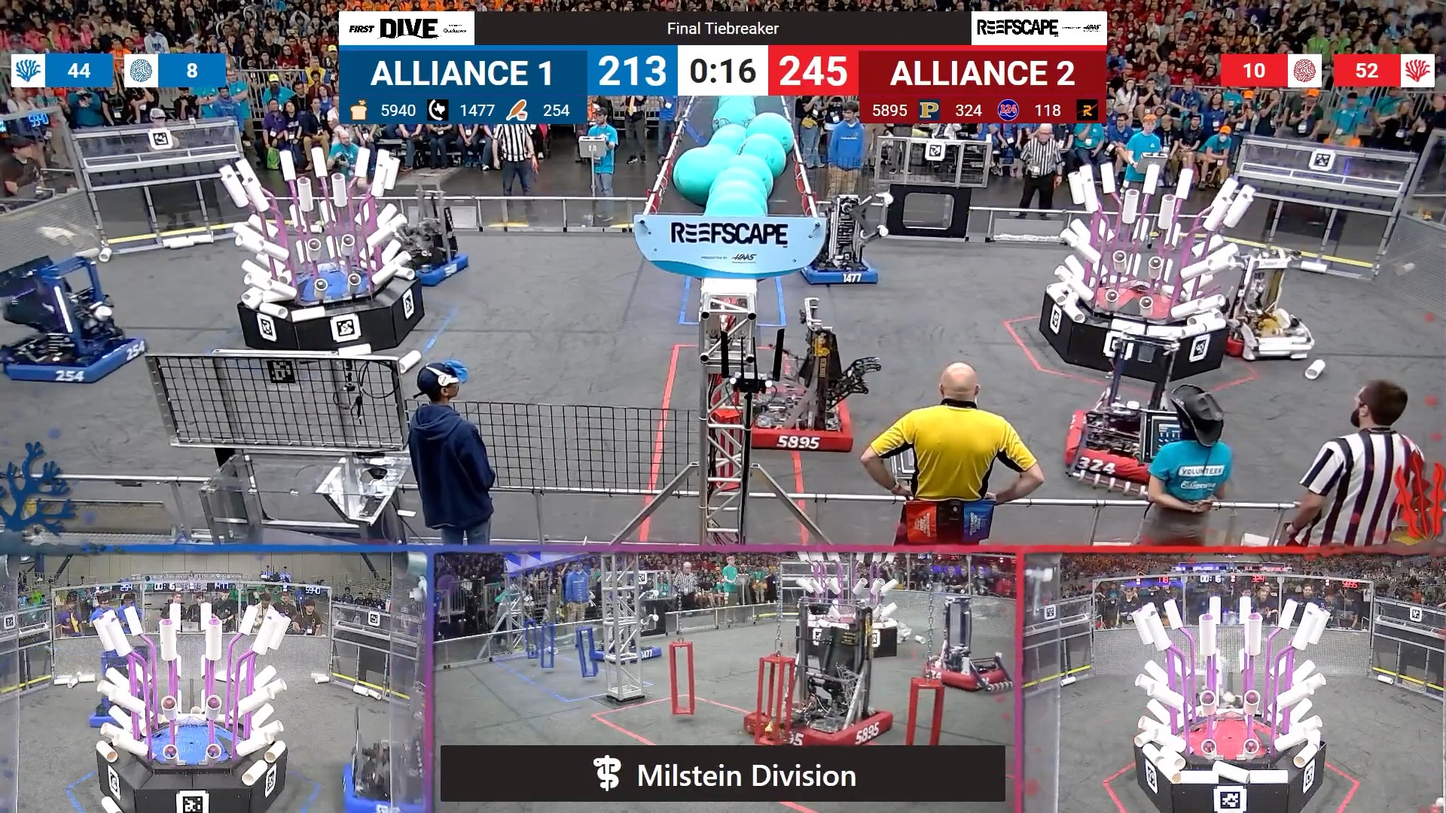bumpers: (1054, 408, 1188, 491), (3, 330, 155, 393), (741, 395, 864, 461), (765, 706, 895, 747), (379, 246, 474, 288), (793, 251, 885, 289), (916, 658, 1015, 691), (338, 781, 436, 813), (590, 644, 665, 666)
